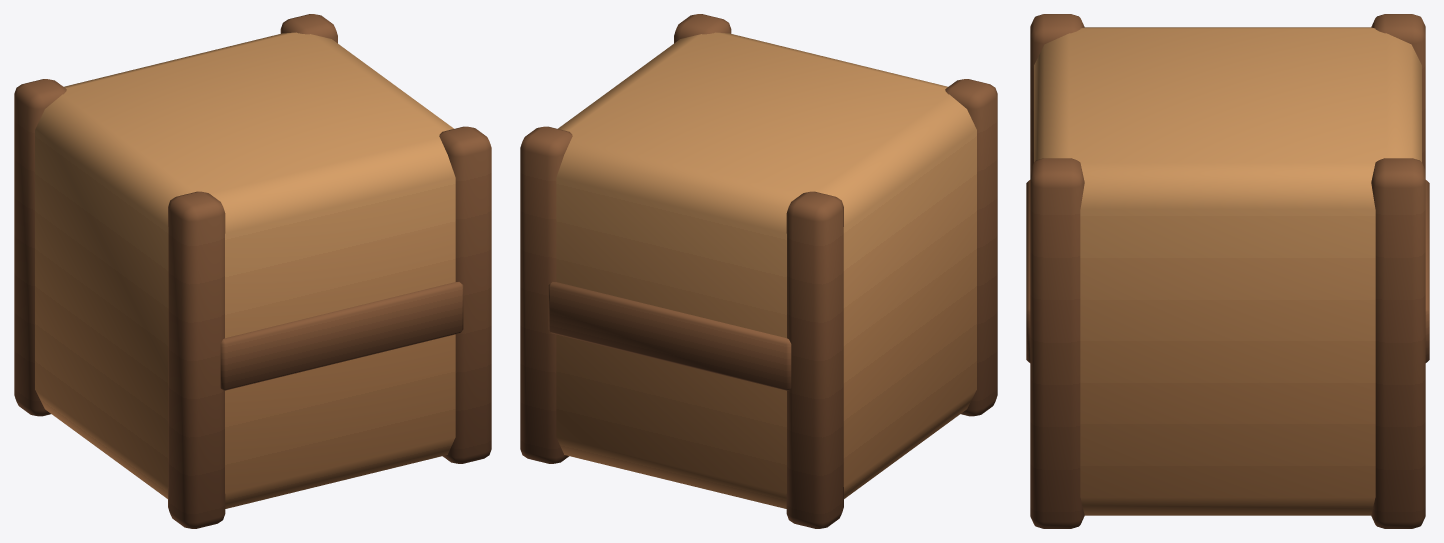
The model's file is crate.glb.
3 renders of one model, left to right at view 1: azimuth 30°, elevation 25°; view 2: azimuth 150°, elevation 25°; view 3: azimuth 270°, elevation 25°, orthographic. The views are drawn at different scales.
Visible parts, largest first — view 1: crate; view 2: crate; view 3: crate.
Boxes of the visible parts, x1=… form: crate: x1=14, y1=14, x2=491, y2=528; crate: x1=520, y1=14, x2=997, y2=528; crate: x1=1026, y1=14, x2=1429, y2=528.
Size of the model in its own units: 1.02 by 1.02 by 1.04.
1 material, 1 textured.
